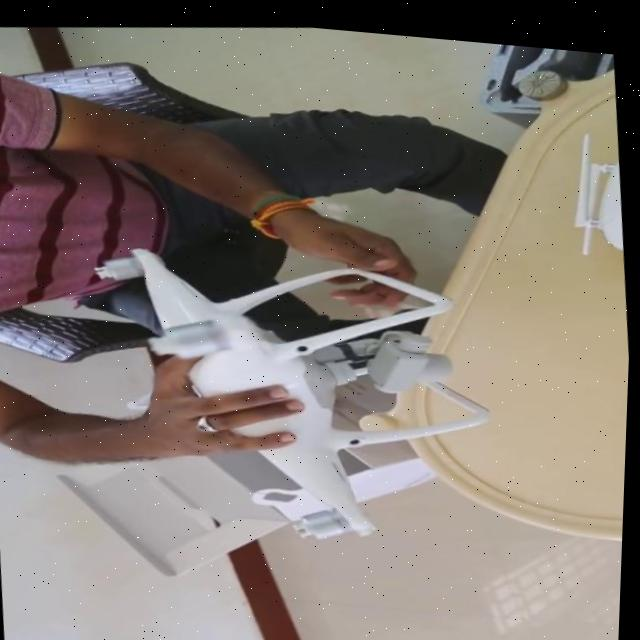drones: (12, 194, 516, 595)
